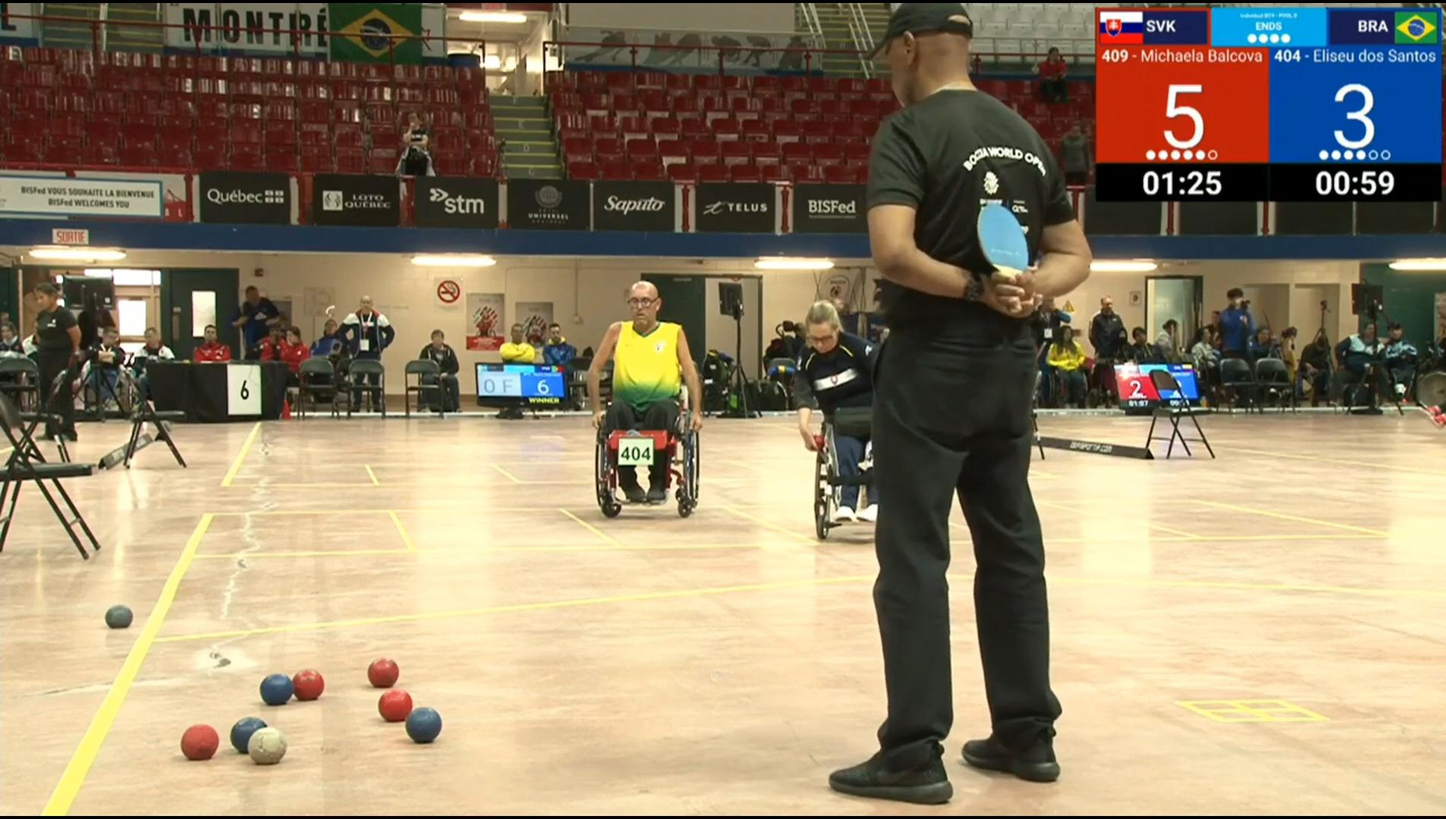blue_ball: (404, 705, 445, 745), (228, 714, 267, 755), (257, 670, 295, 708)
red_ball: (180, 721, 221, 764), (377, 685, 417, 723), (290, 668, 325, 704), (366, 656, 401, 689)
white_ball: (246, 725, 288, 767)
